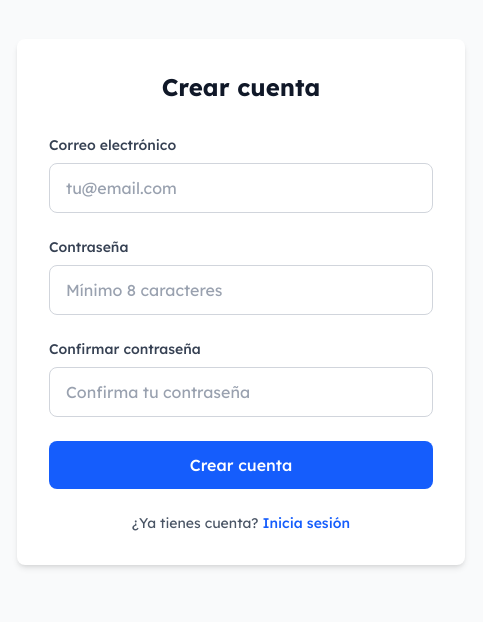
RegisterPage › clears validation error when user starts typing
This screenshot has width=483, height=622.
// Trigger validation error
Click the button "Crear cuenta".
click(241, 465)  # box [49,441,433,489]
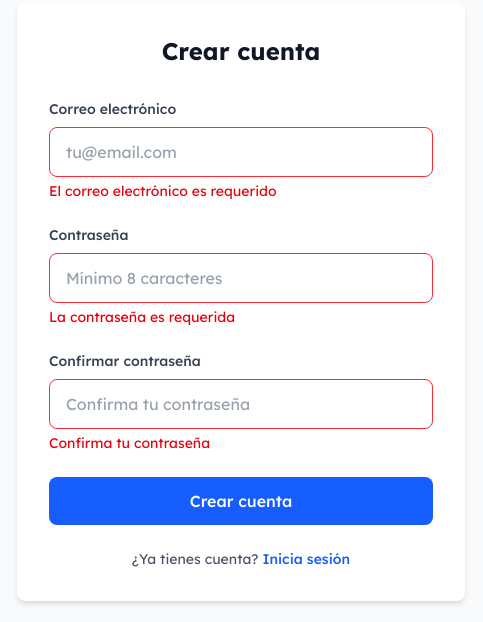
Check: the text "El correo electrónico es requerido" is shown, box [49,182,277,200]
// Start typing
Type "test@example.com" into the field labelled "Correo electrónico".
click(241, 152); type("test@example.com")  # box [49,127,433,177]
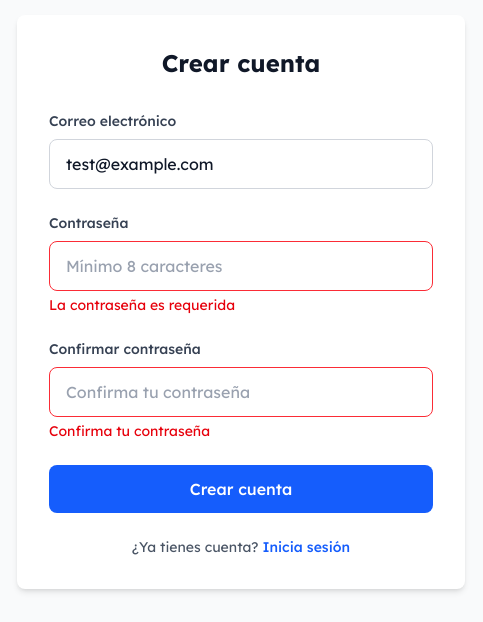
Check: the text "El correo electrónico es requerido" is gone
